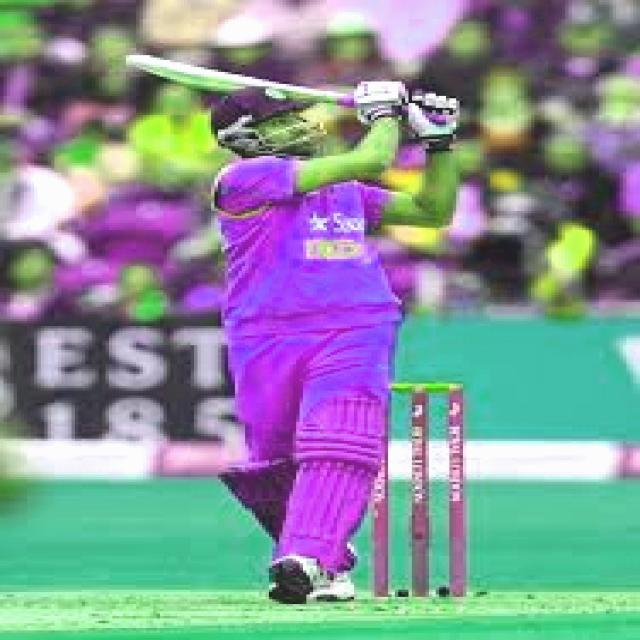toe: (116, 53, 148, 70)
